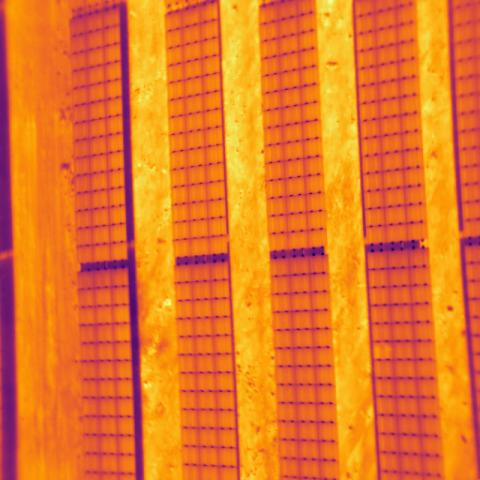fault: (371, 340, 396, 361)
